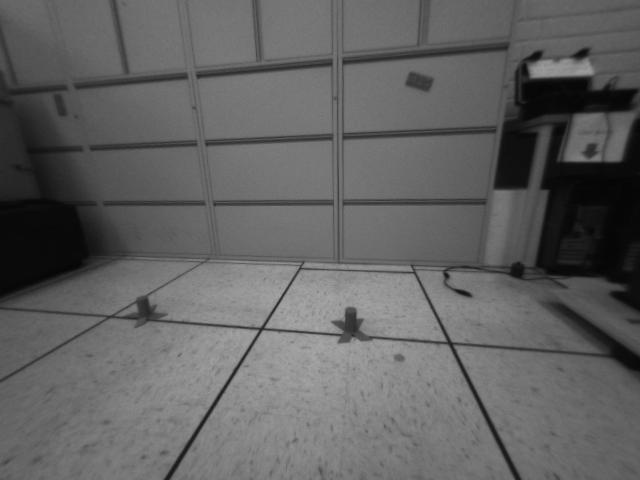X: (331, 306, 375, 343), (123, 295, 168, 327)
